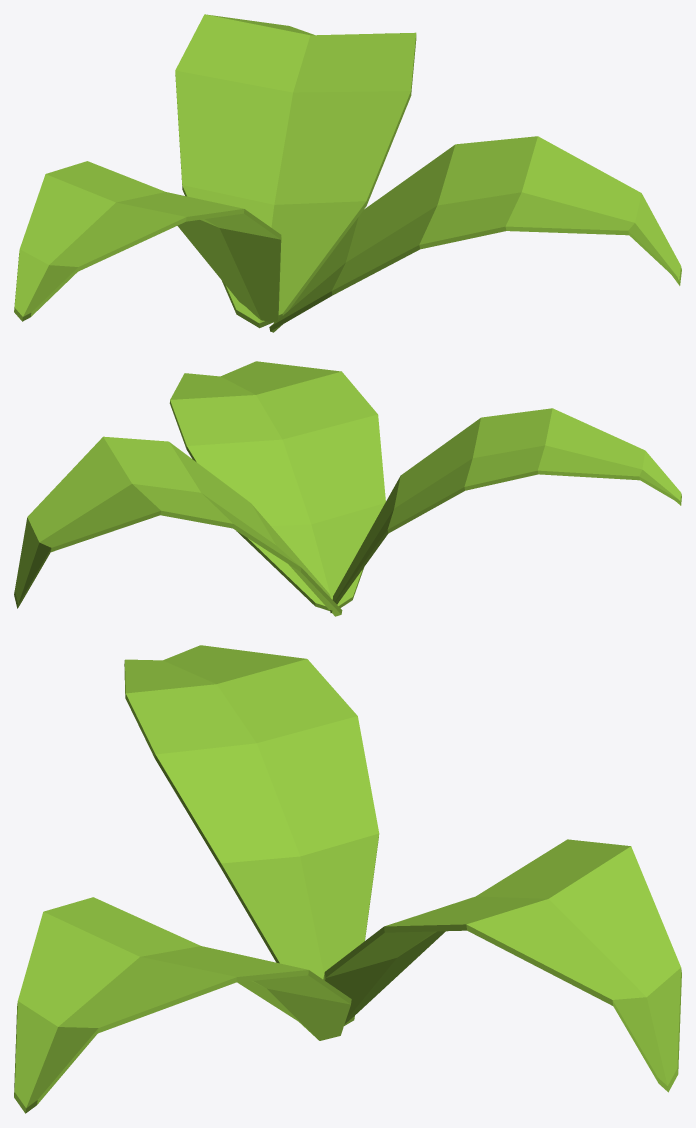
File: plants.fbx
3 views of the same model, one above another, from view 1: azimuth 30°, elevation 25°; view 2: azimuth 150°, elevation 25°; view 3: azimuth 270°, elevation 25° (orthographic). The views are drawn at different scales.
Visible parts, largest first — view 1: plants; view 2: plants; view 3: plants.
Part boxes in pixels (bbox=[...]): plants: bbox=[14, 14, 681, 332]; plants: bbox=[14, 361, 681, 616]; plants: bbox=[14, 645, 681, 1113].
Bounding box in the file's own units: 151 × 51.1 × 123.
